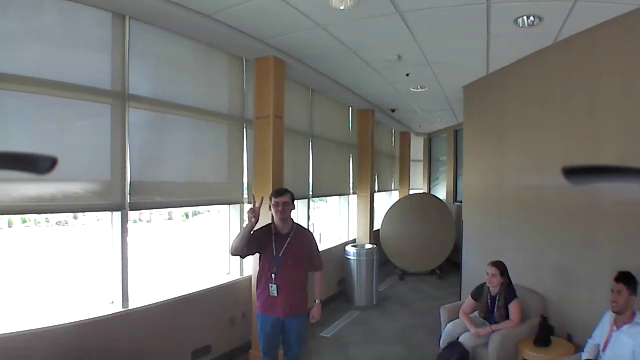peace: (242, 188, 268, 226)
